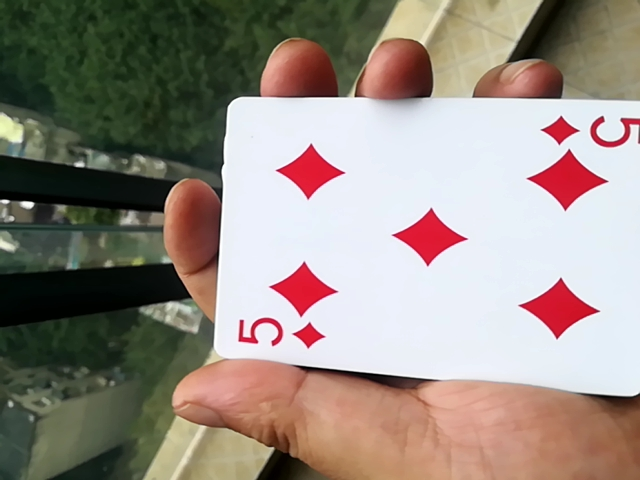fk 5: (185, 97, 630, 398)
